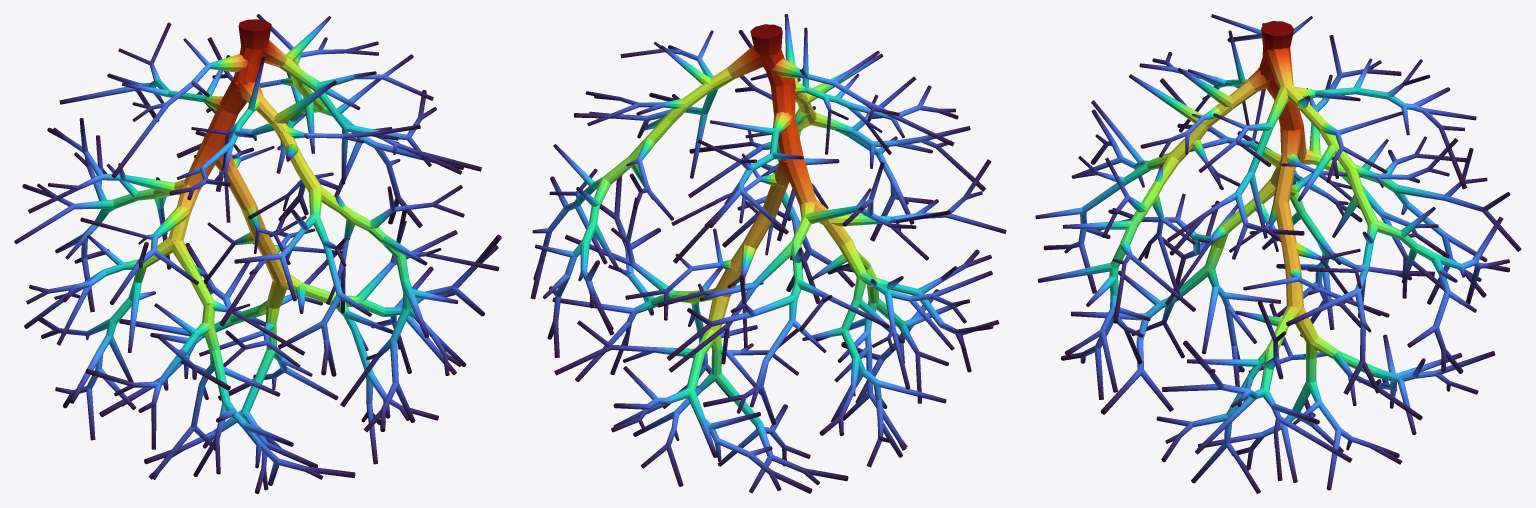
File: 43_flow.gltf
3 renders of one model, left to right at view 1: azimuth 30°, elevation 25°; view 2: azimuth 150°, elevation 25°; view 3: azimuth 270°, elevation 25°, orthographic. The views are drawn at different scales.
Parts seen in each view (by area): view 1: Renderer Node; view 2: Renderer Node; view 3: Renderer Node.
Part boxes in pixels (box(x1,y1,x2,y2)): Renderer Node: box(14, 14, 501, 493); Renderer Node: box(530, 14, 1006, 493); Renderer Node: box(1035, 14, 1521, 493).
Size of the model in its own units: 33.36 by 33.52 by 33.29.
1 material, 1 textured.
